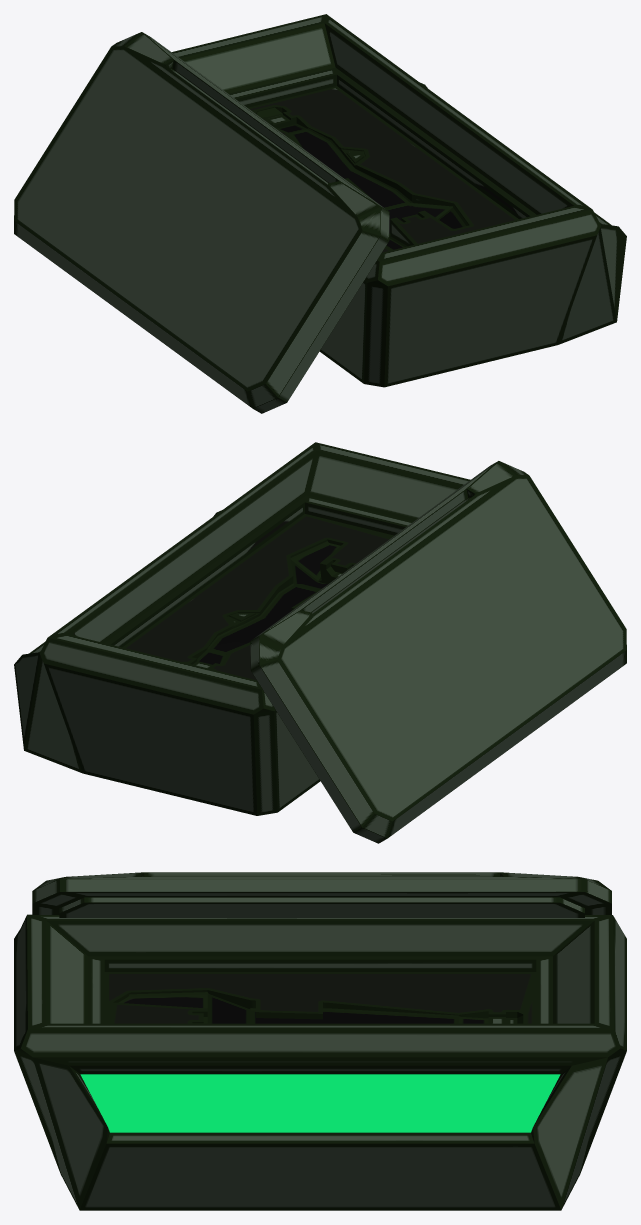
Rendered from Chest.fbx.
3 views of the same model, one above another, from view 1: azimuth 30°, elevation 25°; view 2: azimuth 150°, elevation 25°; view 3: azimuth 270°, elevation 25° (orthographic). The views are drawn at different scales.
Parts seen in each view (by area): view 1: ChestLid1, Chest; view 2: ChestLid1, Chest; view 3: Chest, ChestLid1.
Part boxes in pixels (left/top/right/bottom): ChestLid1: left=14, top=32, right=389, bottom=413; Chest: left=172, top=14, right=626, bottom=387; ChestLid1: left=250, top=461, right=626, bottom=843; Chest: left=14, top=442, right=470, bottom=815; Chest: left=14, top=914, right=626, bottom=1210; ChestLid1: left=32, top=872, right=611, bottom=917.
Bounding box in the file's own units: 3.58 × 1.57 × 4.35.
3 materials, 2 textured.
